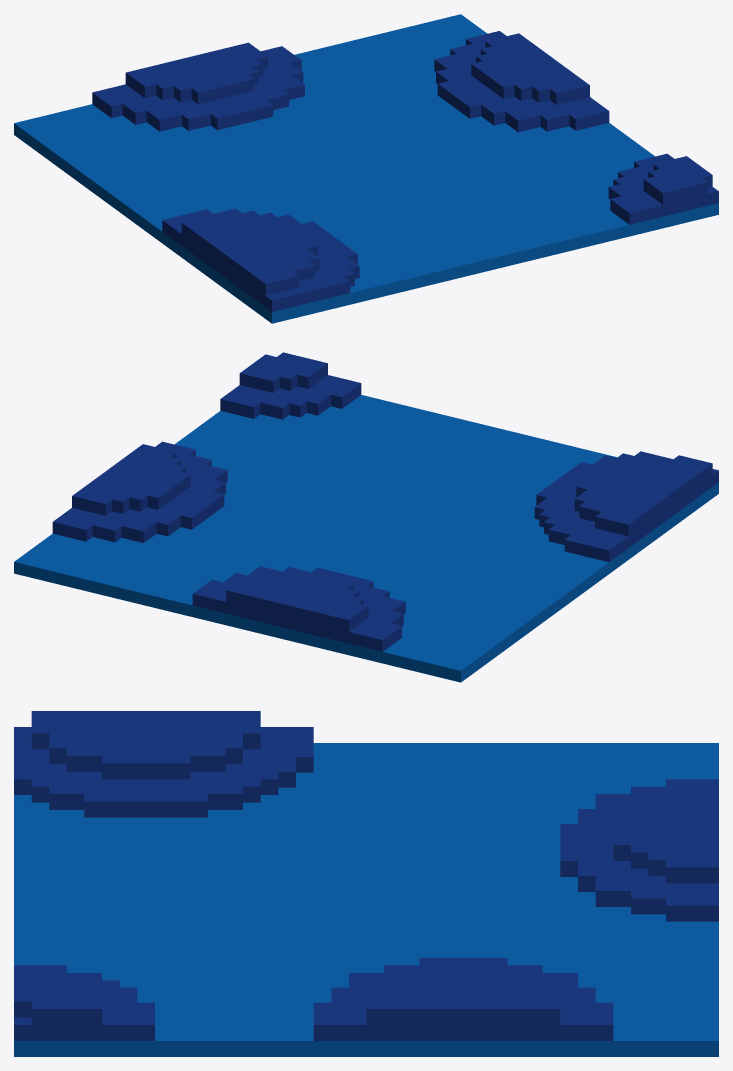
Rendered from Water.obj.
3 renders of one model, top to bottom at view 1: azimuth 30°, elevation 25°; view 2: azimuth 150°, elevation 25°; view 3: azimuth 270°, elevation 25°, orthographic. The views are drawn at different scales.
Size of the model in its own units: 4 by 0.3 by 4.
Materials: 1 (1 with a texture image).
